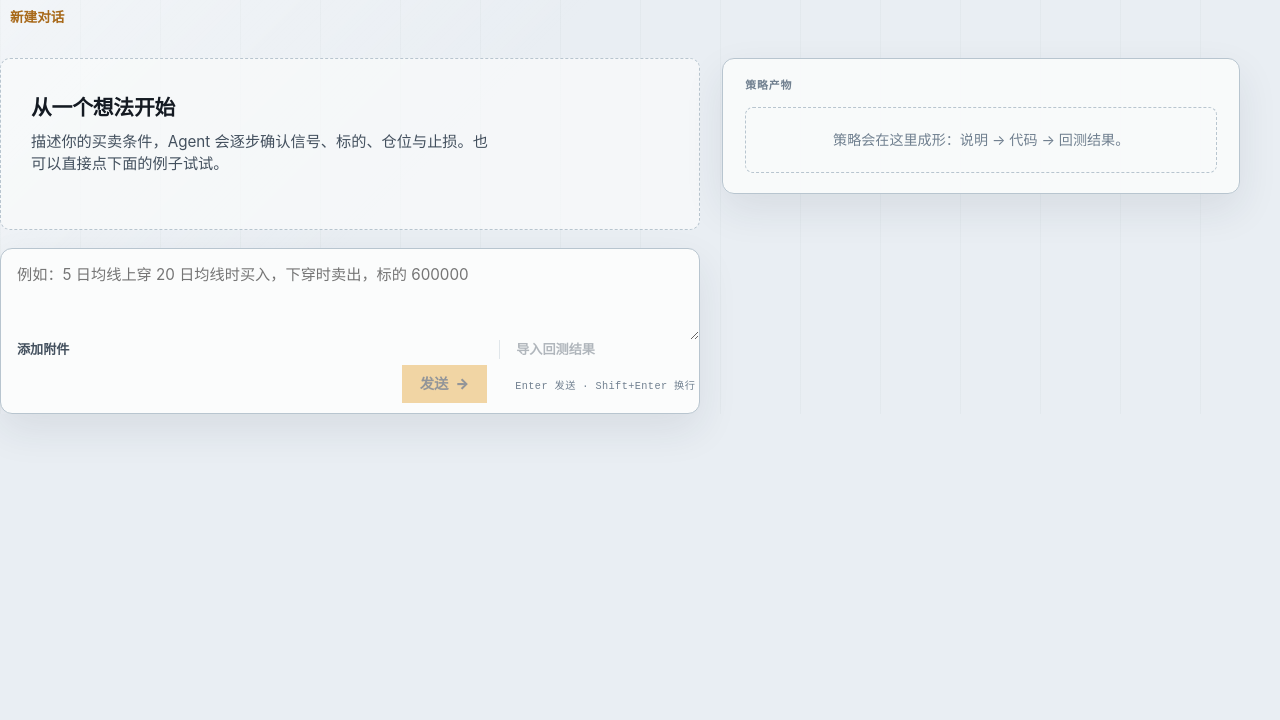
Test case: StrategyChat backtest import › clears the input immediately and keeps the backtest selection when sending fails
Type "建立一个策略" into the text box. click: [350, 294]
box: [1,249,699,340]
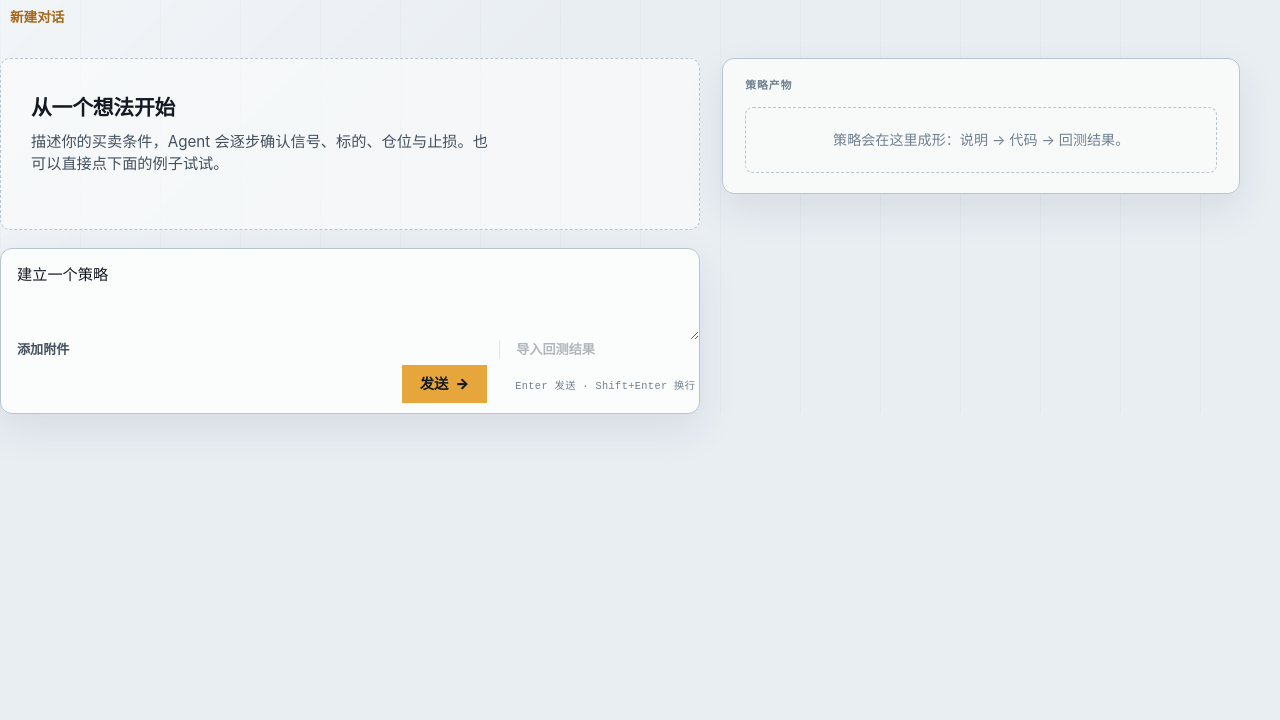
Click the button "发送 →". click: [444, 384]
box: [402,364,487,403]
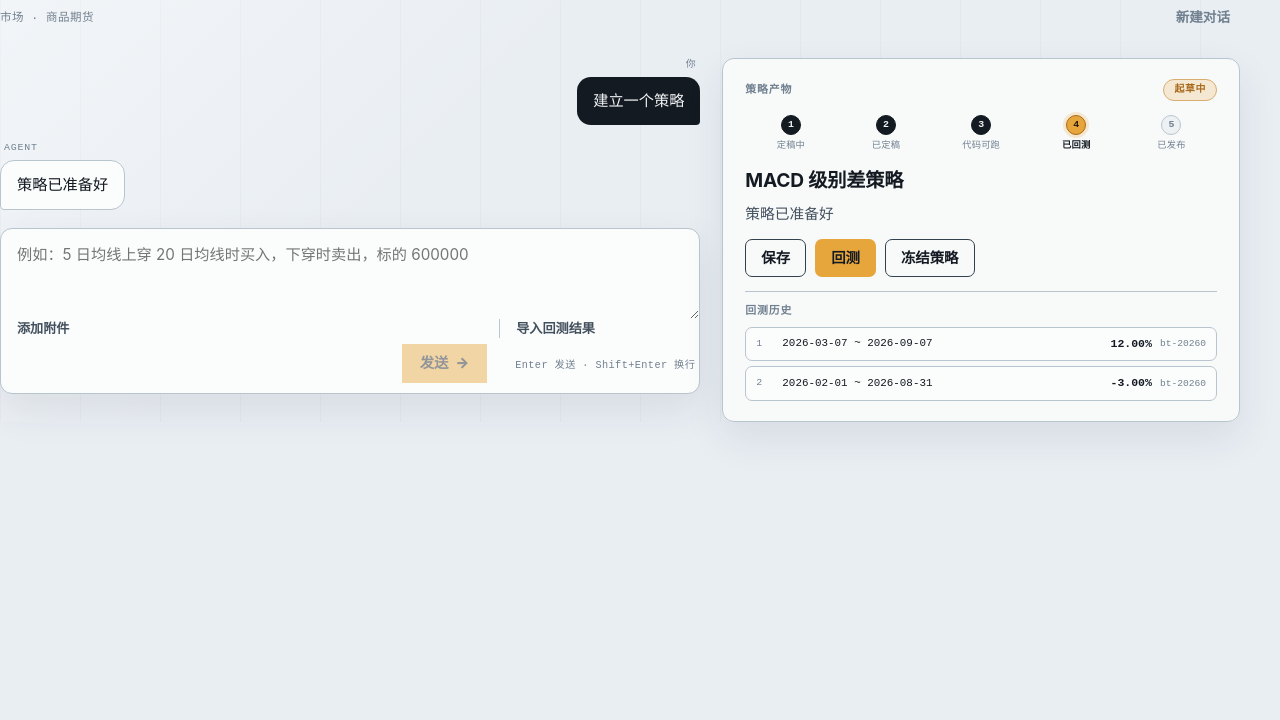
Click the button "导入回测结果". click: [555, 329]
box: [499,319,611,338]
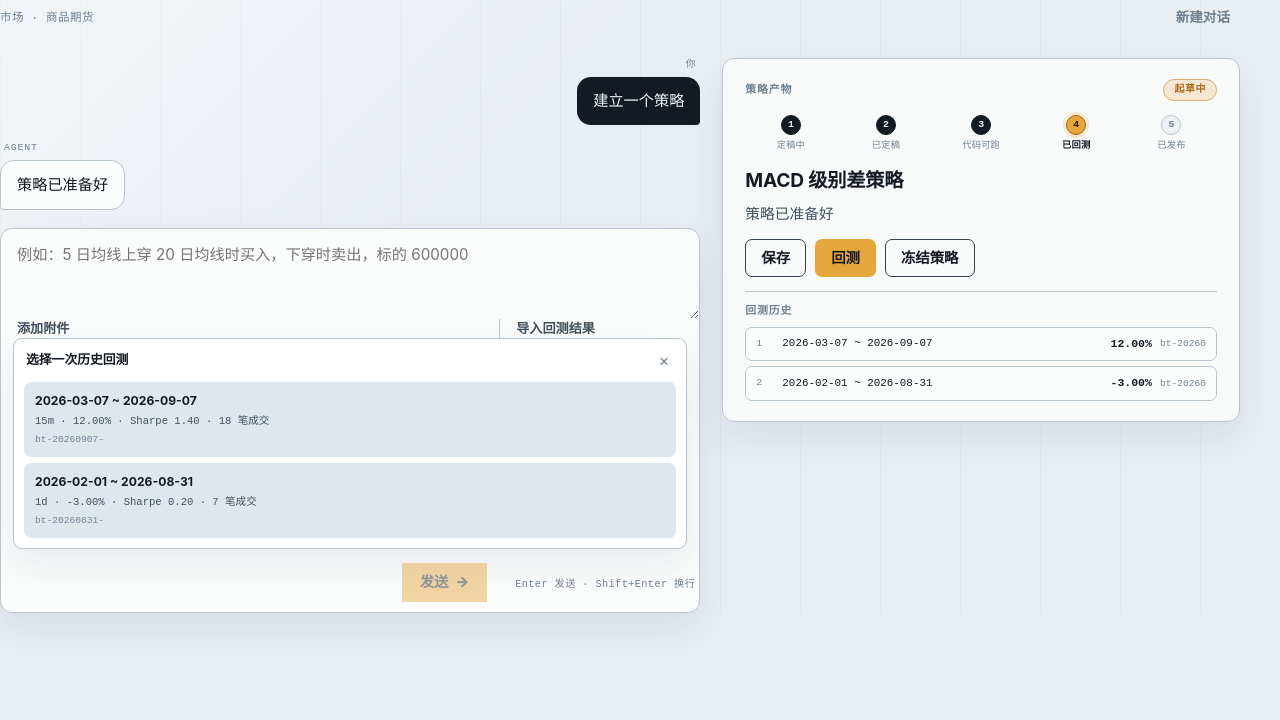
Click the button "2026-03-07 ~ 2026-09-07". click: [72, 401]
box: [24,382,676,457]
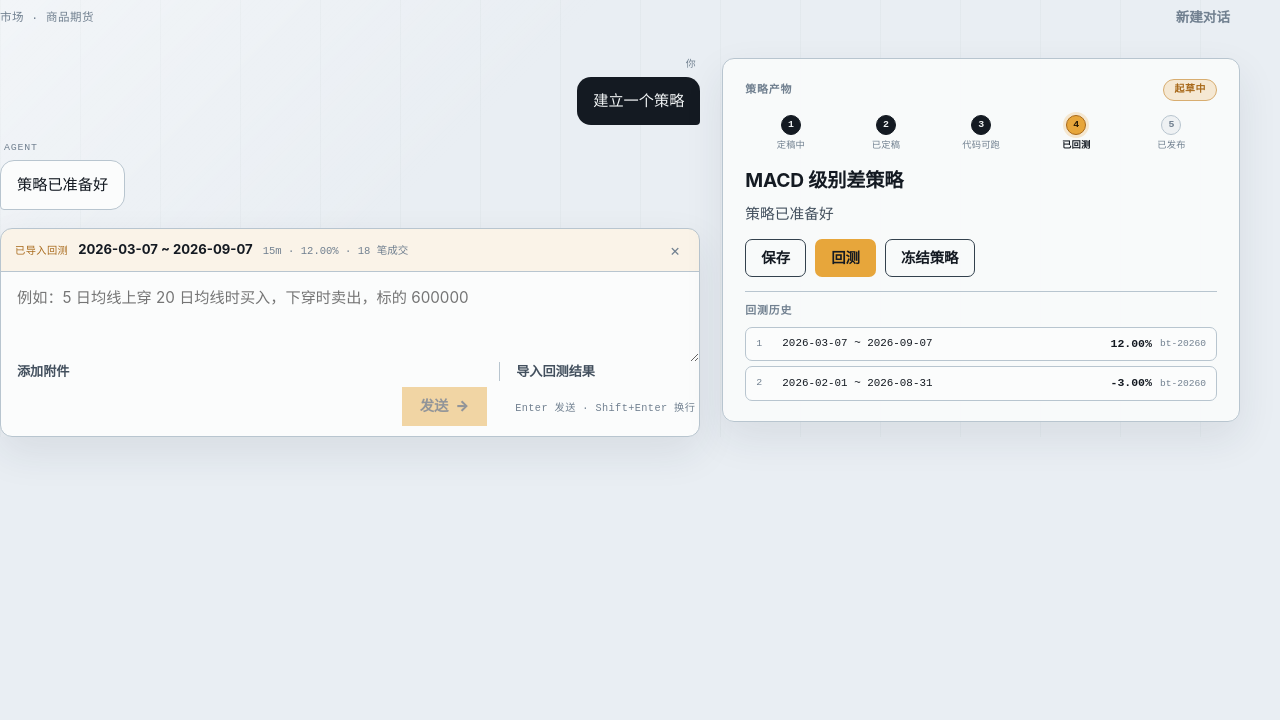
Type "分析失败时保留" into the text box. click: [350, 317]
box: [1,272,699,362]
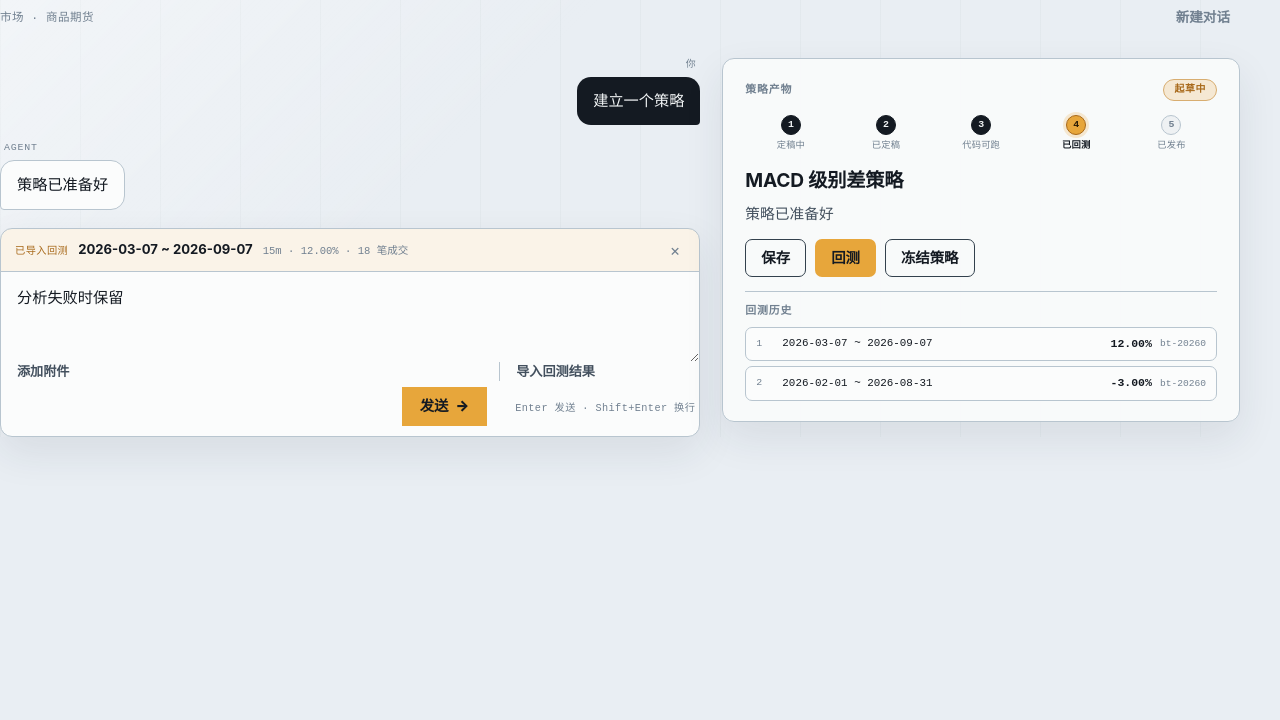
Click the button "发送 →". click: [444, 407]
box: [402,387,487,426]
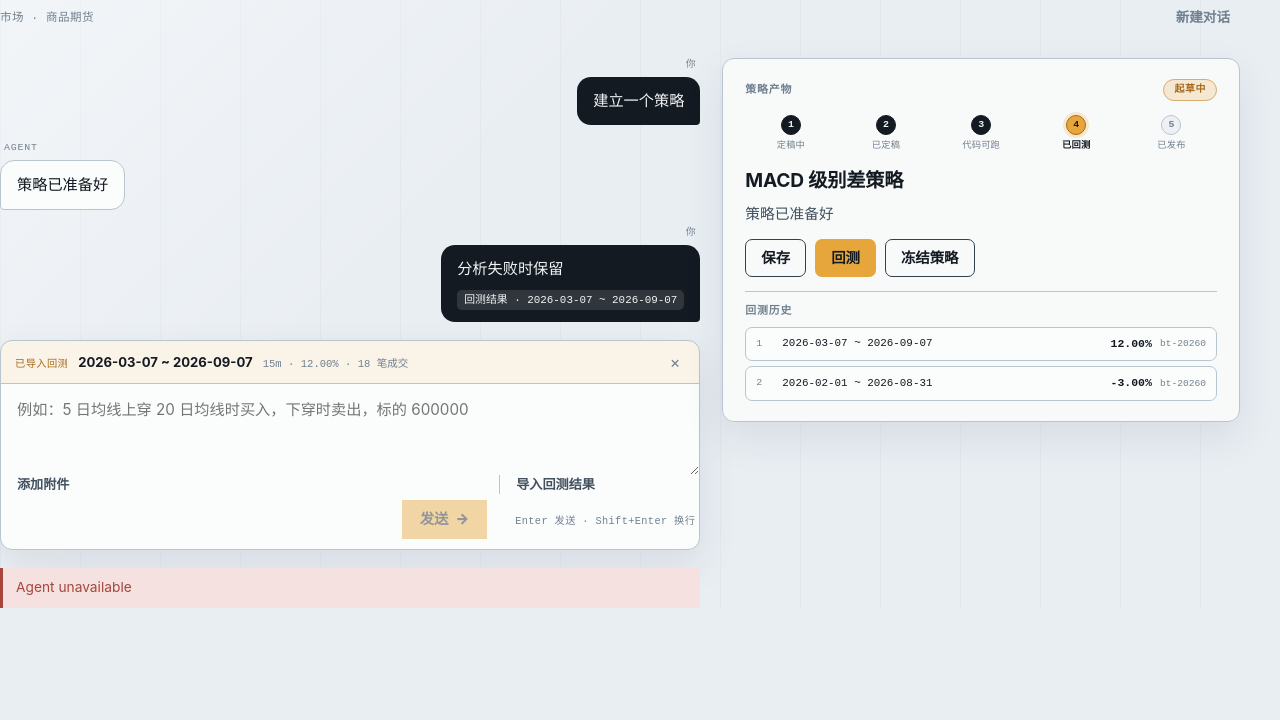
Check: the message "已导入回测 2026-03-07 ~ 2026-09-07" is shown, box [1,341,699,384]
Check: the text box is empty, box [1,384,699,475]
Check: the text "Agent unavailable" is shown, box [0,568,700,608]
